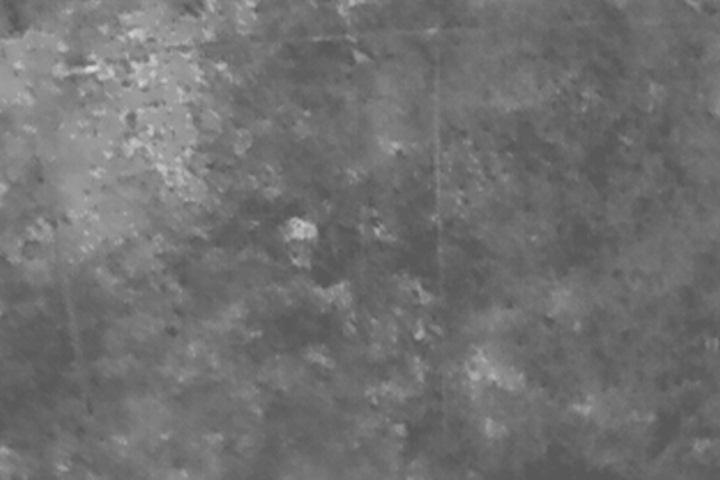landmine: (285, 217, 319, 244)
